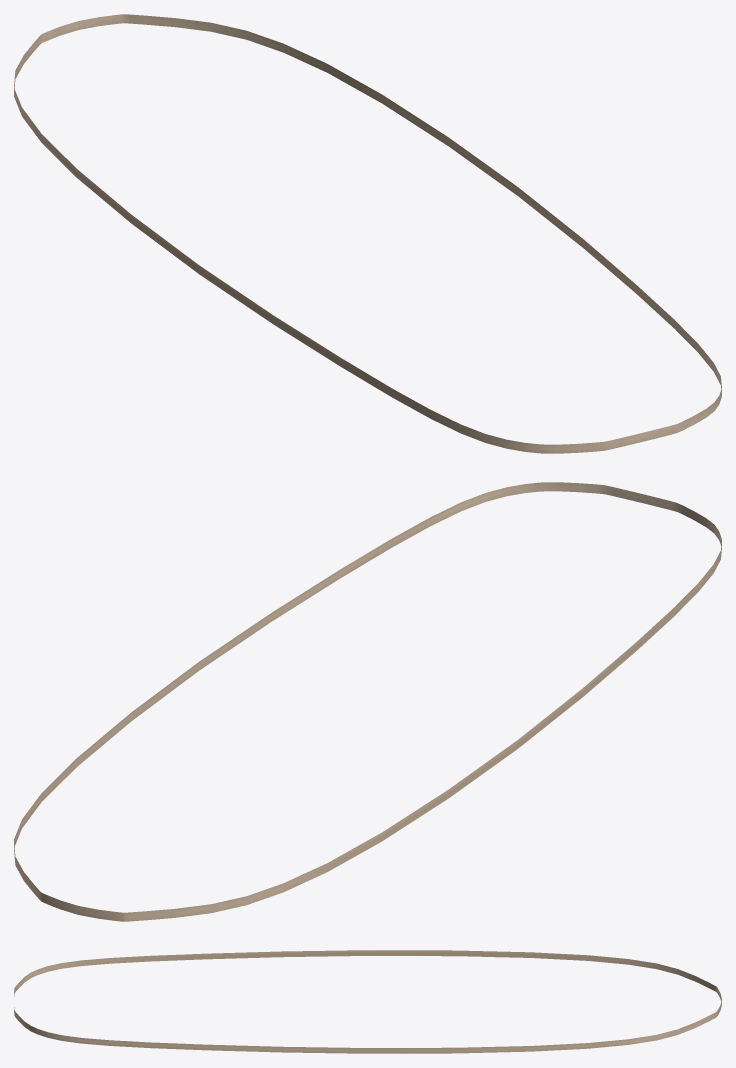
The model's file is surfboard05-side.glb.
3 renders of one model, top to bottom at view 1: azimuth 30°, elevation 25°; view 2: azimuth 150°, elevation 25°; view 3: azimuth 270°, elevation 25°, orthographic. The views are drawn at different scales.
Visible parts, largest first — view 1: surfboard05-side; view 2: surfboard05-side; view 3: surfboard05-side.
Part boxes in pixels (x1,y1,x2,y2): surfboard05-side: (14, 14, 721, 453); surfboard05-side: (14, 482, 721, 921); surfboard05-side: (14, 950, 721, 1053).
Size of the model in its own units: 0.2826 by 0.00768 by 0.8633.
Materials: 1 (1 with a texture image).
